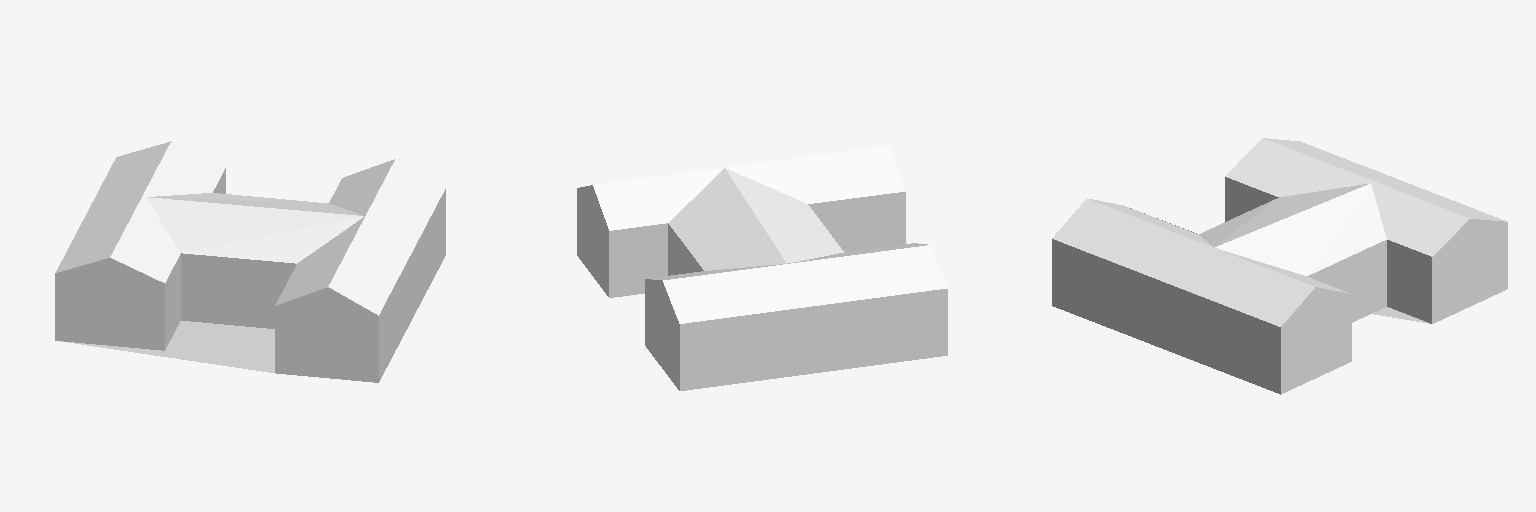
Rendered from house_Shape 159.obj.
3 renders of one model, left to right at view 1: azimuth 30°, elevation 25°; view 2: azimuth 150°, elevation 25°; view 3: azimuth 270°, elevation 25°, orthographic.
Visible parts, largest first — view 1: CityEngineMaterial_8, CityEngineMaterial_10, CityEngineMaterial_11, CityEngineMaterial_63; view 2: CityEngineMaterial_8, CityEngineMaterial_11, CityEngineMaterial_10; view 3: CityEngineMaterial_8, CityEngineMaterial_11, CityEngineMaterial_10.
Part boxes in pixels (x1,y1,x2,y2): CityEngineMaterial_8: (56,141,445,315); CityEngineMaterial_10: (165,168,378,382); CityEngineMaterial_11: (55,189,445,381); CityEngineMaterial_63: (60,306,362,372); CityEngineMaterial_8: (593,146,947,323); CityEngineMaterial_11: (645,224,947,390); CityEngineMaterial_10: (577,186,905,297); CityEngineMaterial_8: (1052,138,1506,326); CityEngineMaterial_11: (1052,220,1507,394); CityEngineMaterial_10: (1131,177,1431,393).
Size of the model in its own units: 21.99 by 5.04 by 22.8.